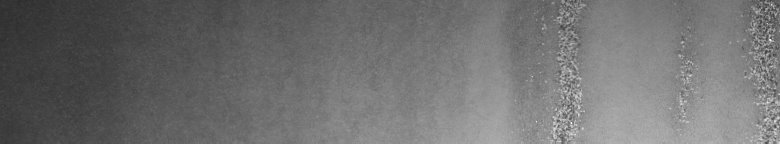hc: (676, 4, 776, 136)
